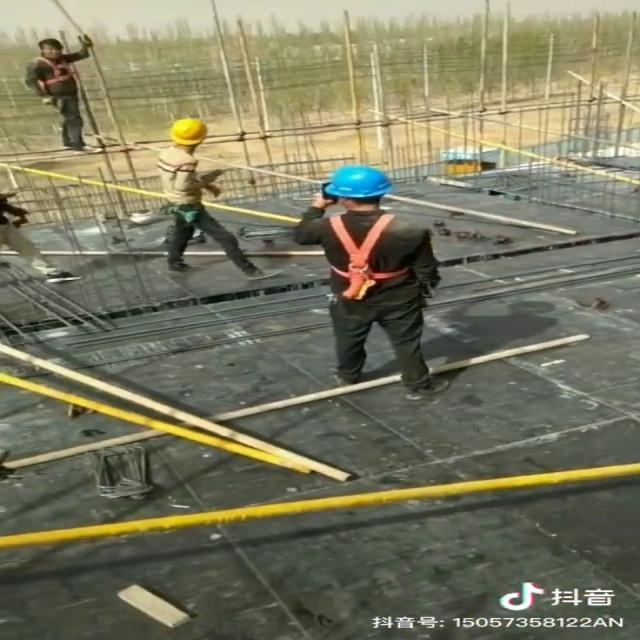Arnes_seguridad: (304, 206, 428, 303), (20, 56, 85, 99)
